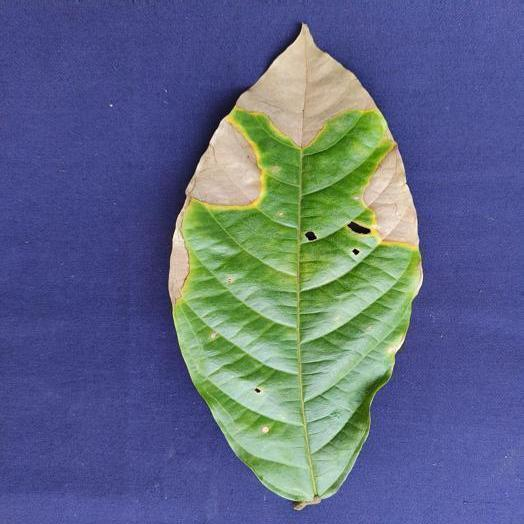Potassium: (170, 26, 421, 508)
